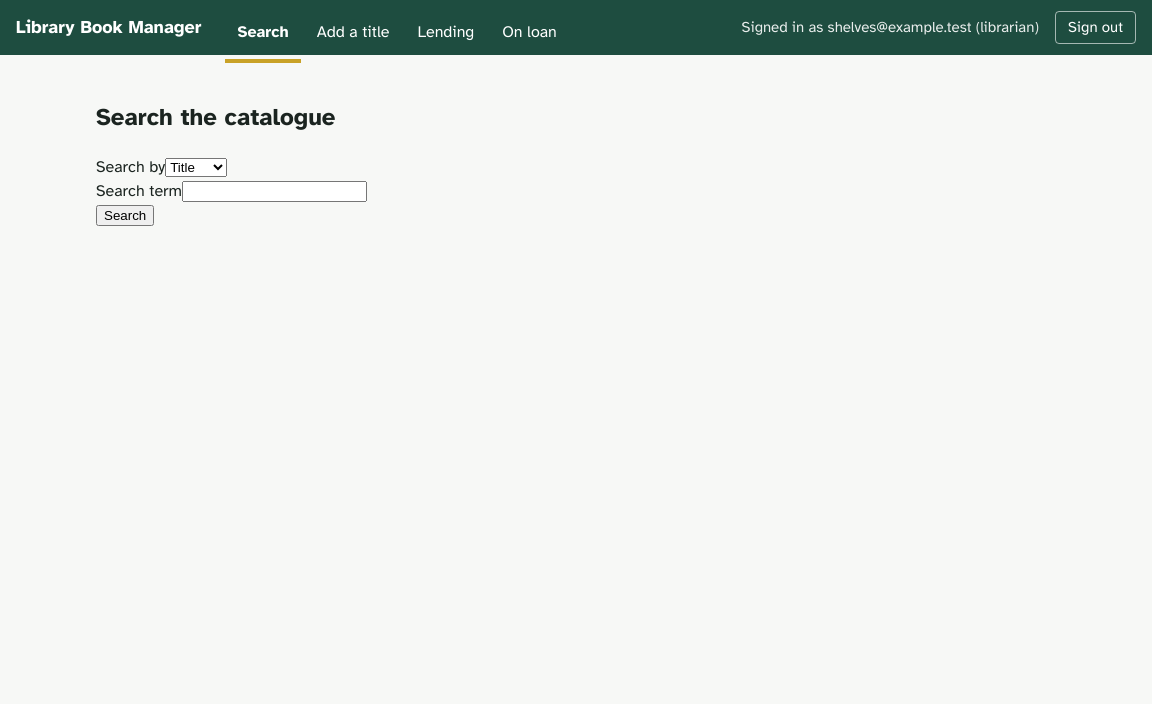
REQ-BOOK-005 search › AC-BOOK-005-1: an author search asks for no page and shows the first 50 and the total of 120
Select "Author" in the dropdown labelled "Search by". click: (196, 167)
box: [165, 158, 227, 177]
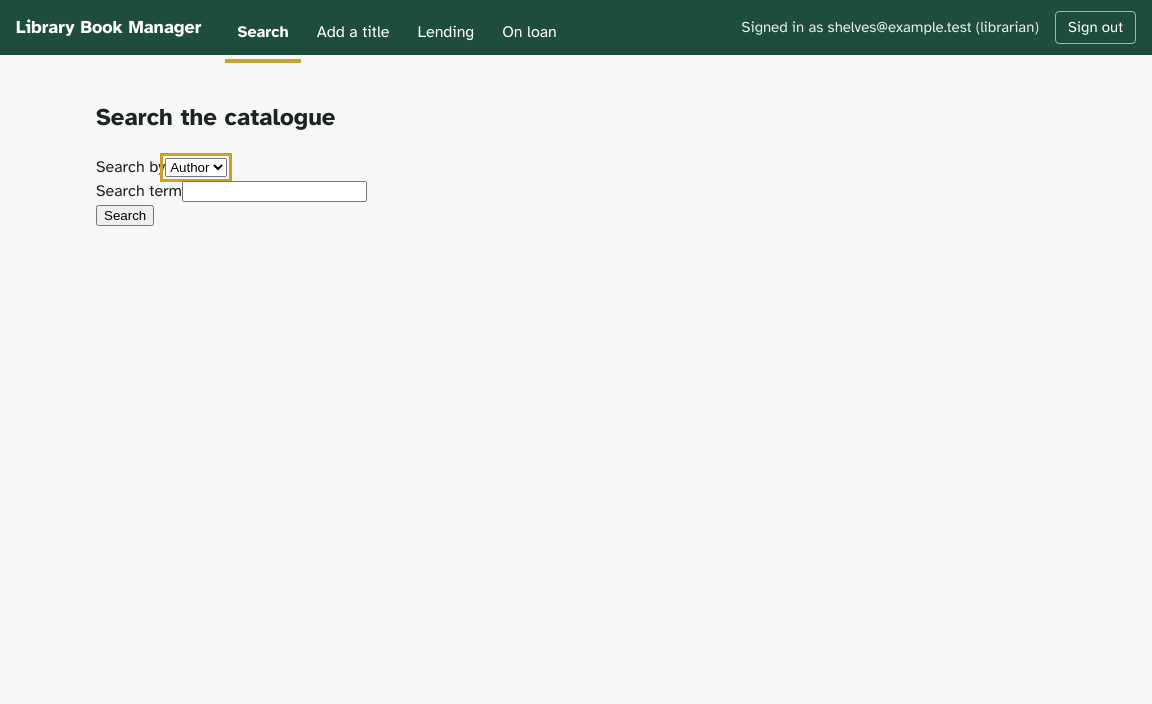
Type "Le Guin" into the field labelled "Search term". click: (274, 191)
box: [182, 181, 367, 202]
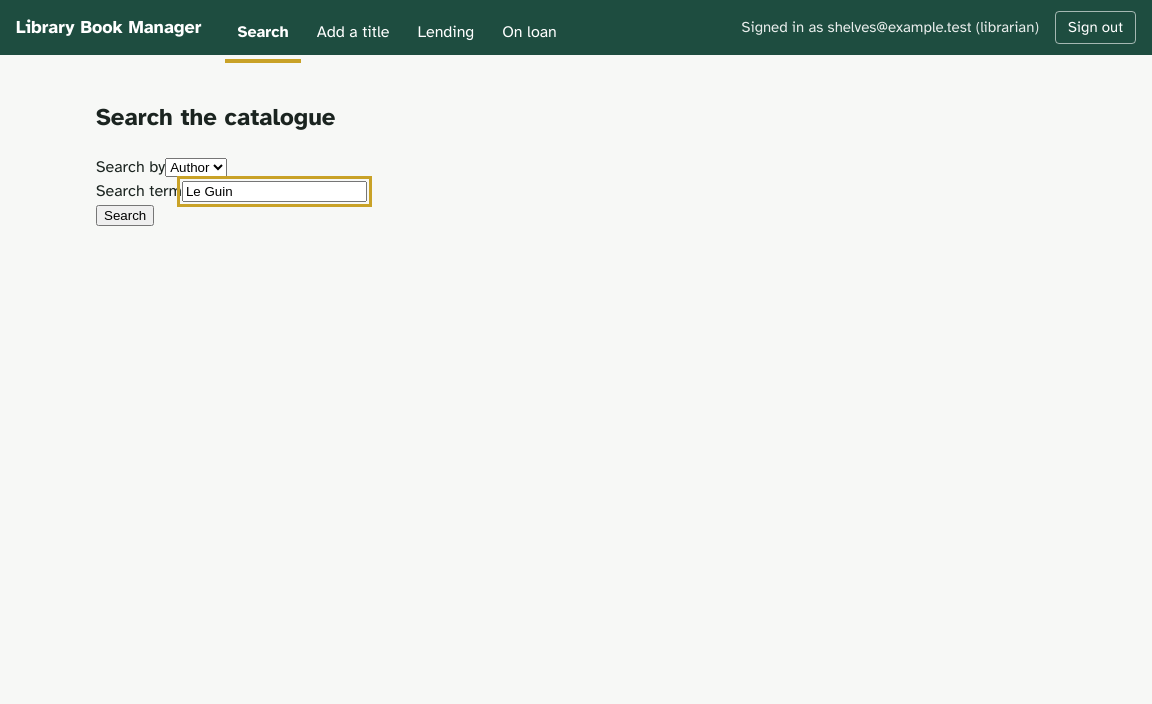
Click the button "Search". click: (125, 215)
box: [96, 205, 154, 226]
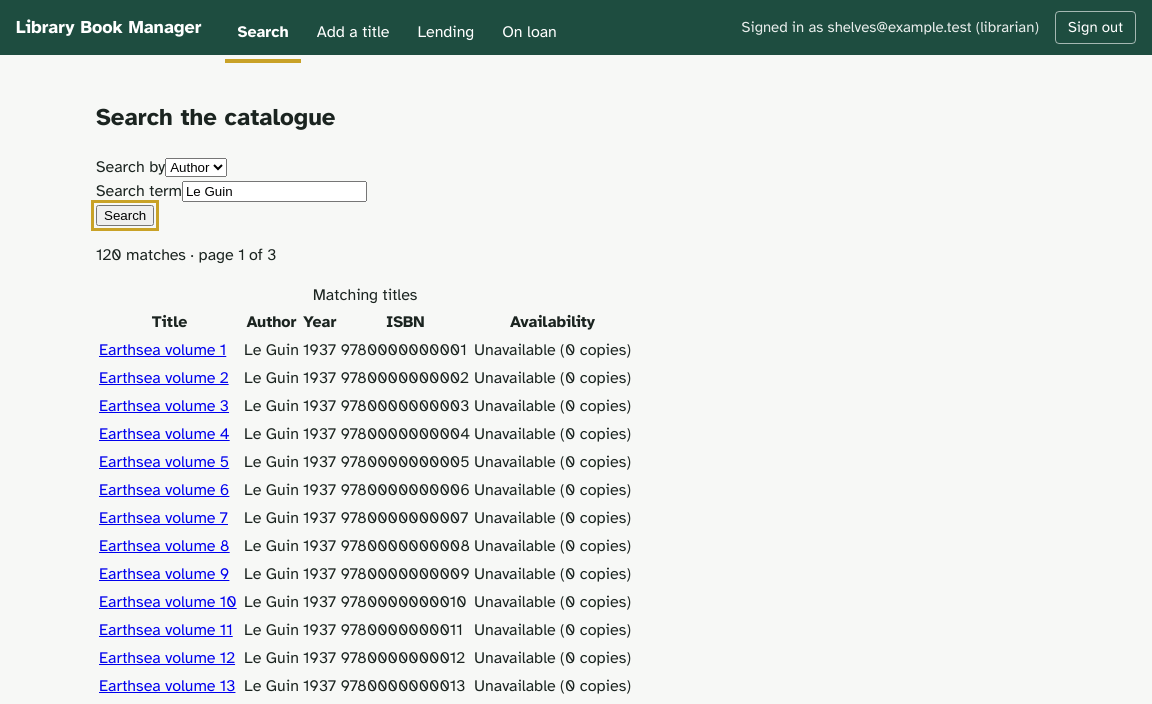
Expected: the text "120 matches · page 1 of 3" is shown, [96, 245, 276, 265]
Expected: the cell "Le Guin" in the row of "9780000000001" is shown, [244, 340, 299, 360]
Expected: the number of rows is 51
